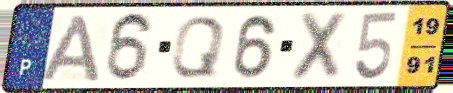5: (353, 10, 400, 82)
6: (105, 10, 160, 86), (232, 12, 279, 82)
A: (37, 12, 103, 83)
Q: (168, 14, 228, 80)
X: (287, 10, 351, 83)
